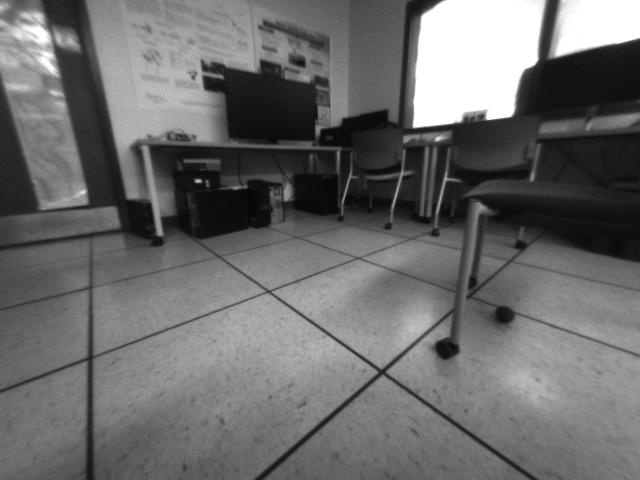dogtoy: (491, 298, 522, 328)
